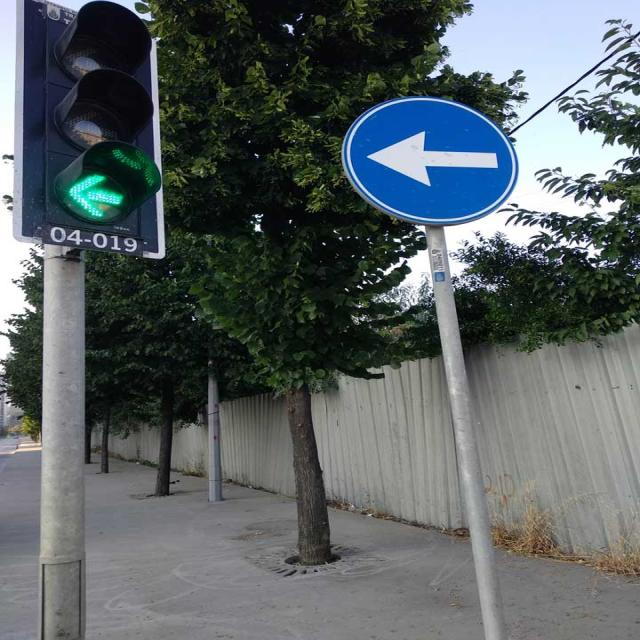sol: (341, 97, 518, 226)
